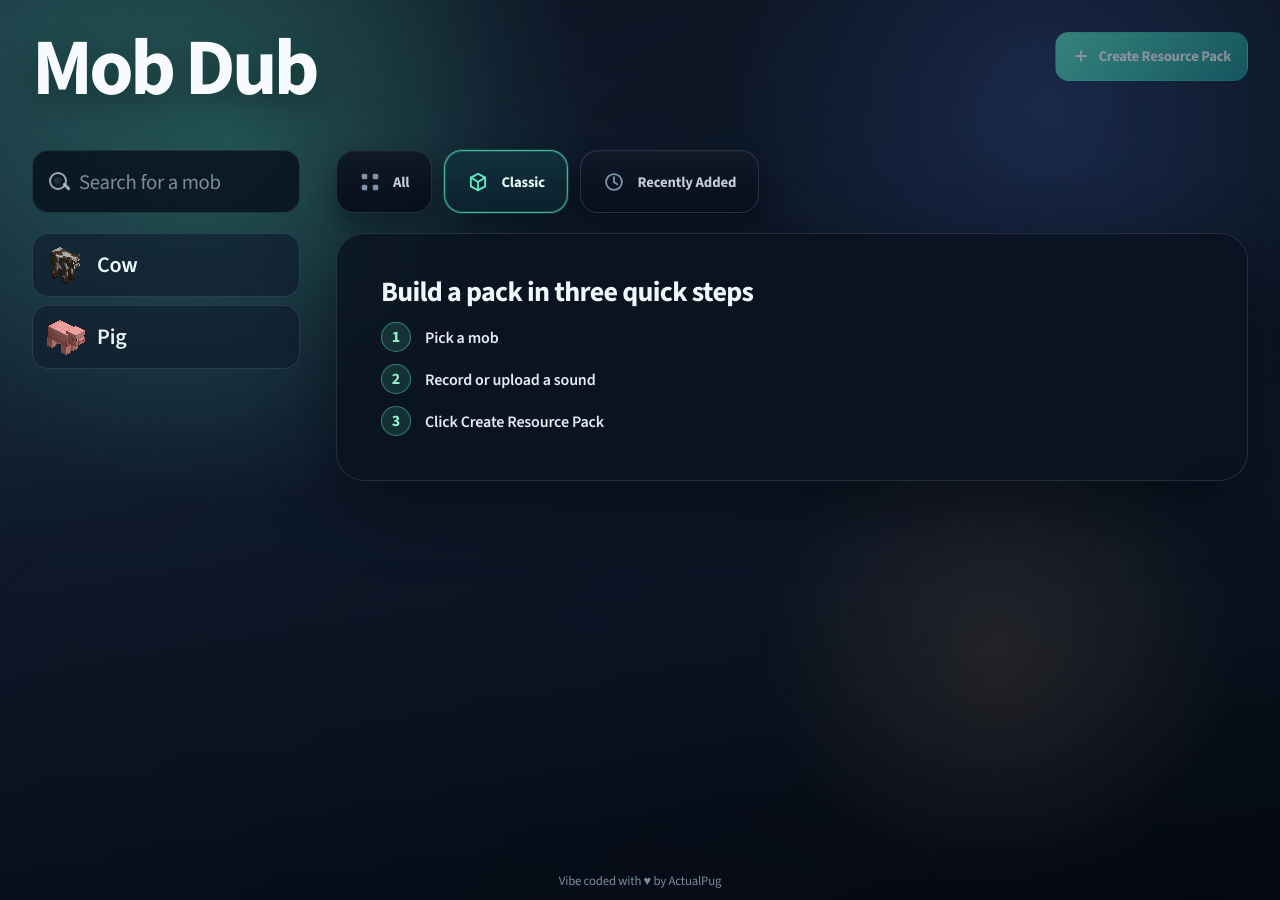
Test: App › removes a mob immediately when it has no uploaded or recorded custom audio
The width and height of the screenshot is (1280, 900).
Click the button "Cow". click: point(166, 265)
box: [39,240,293,290]
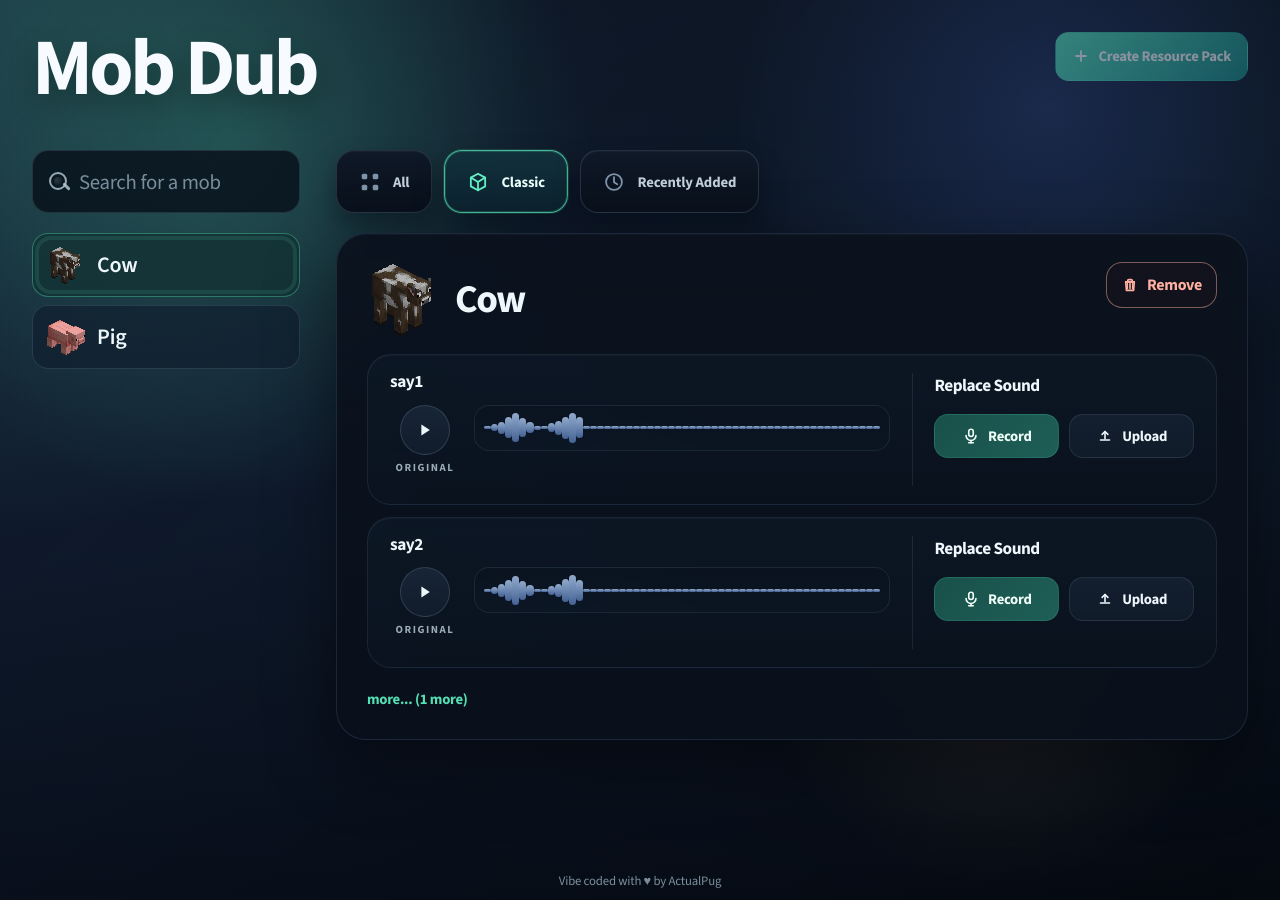
Click the button "Remove". click: point(1162, 285)
box: [1106,262,1217,308]
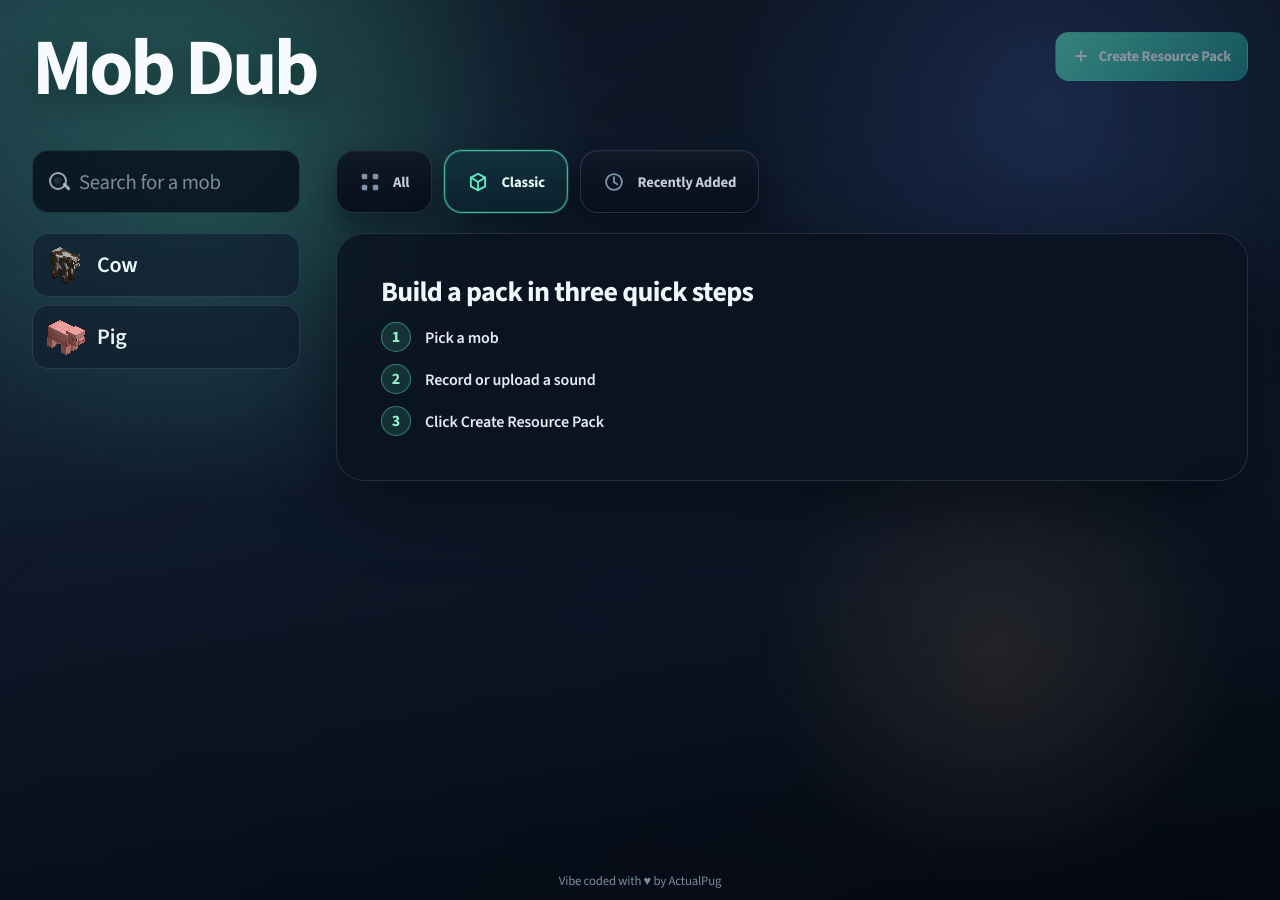
Check: the heading "Build a pack in three quick steps" is shown, box [381,273,753,310]
